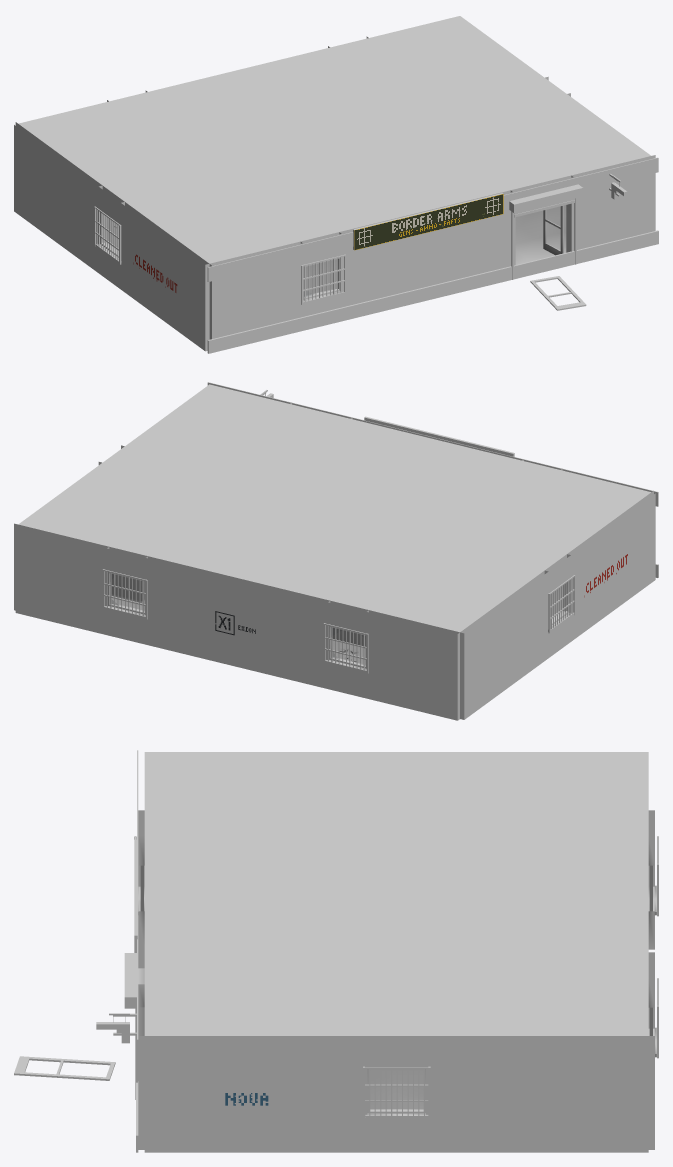
The model's file is gun_store.glb.
The picture shows the model from 3 angles, top to bottom: view 1: azimuth 30°, elevation 25°; view 2: azimuth 150°, elevation 25°; view 3: azimuth 270°, elevation 25°; orthographic projection. The views are drawn at different scales.
Parts seen in each view (by area): view 1: gun_store; view 2: gun_store; view 3: gun_store.
Part boxes in pixels (left/top/right/bottom): gun_store: left=14, top=16, right=658, bottom=353; gun_store: left=14, top=382, right=658, bottom=720; gun_store: left=14, top=750, right=658, bottom=1152.
Size of the model in its own units: 16.49 by 3.07 by 15.36.
Materials: 4 (3 with a texture image).
